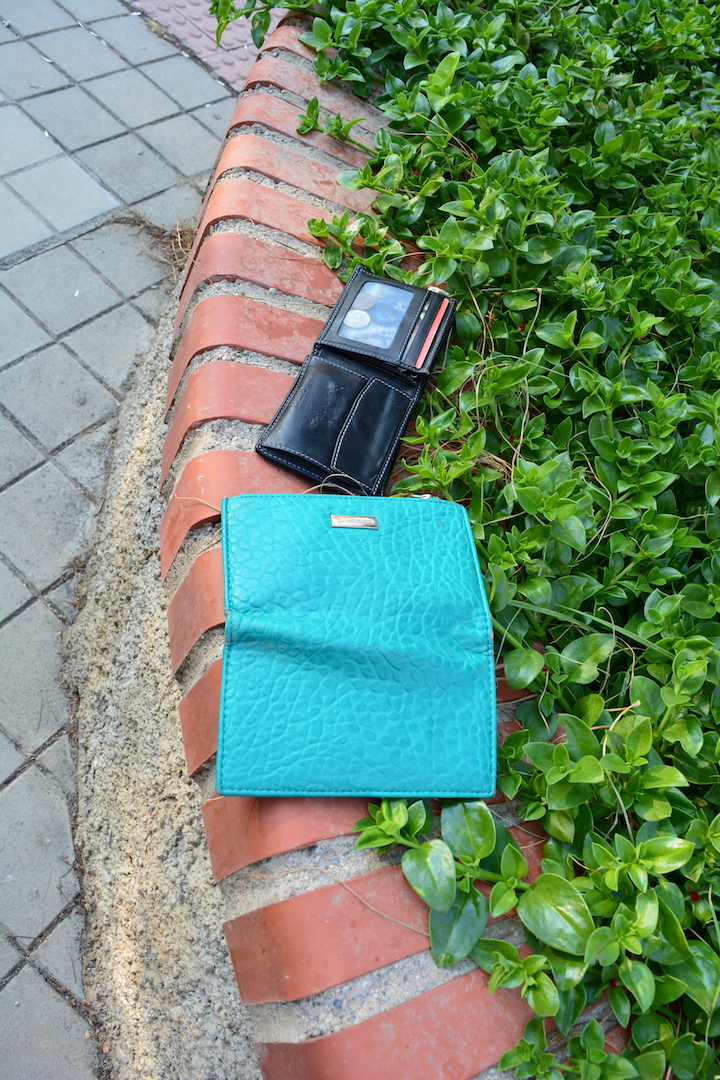monedero: (211, 492, 497, 801), (254, 266, 458, 493)
